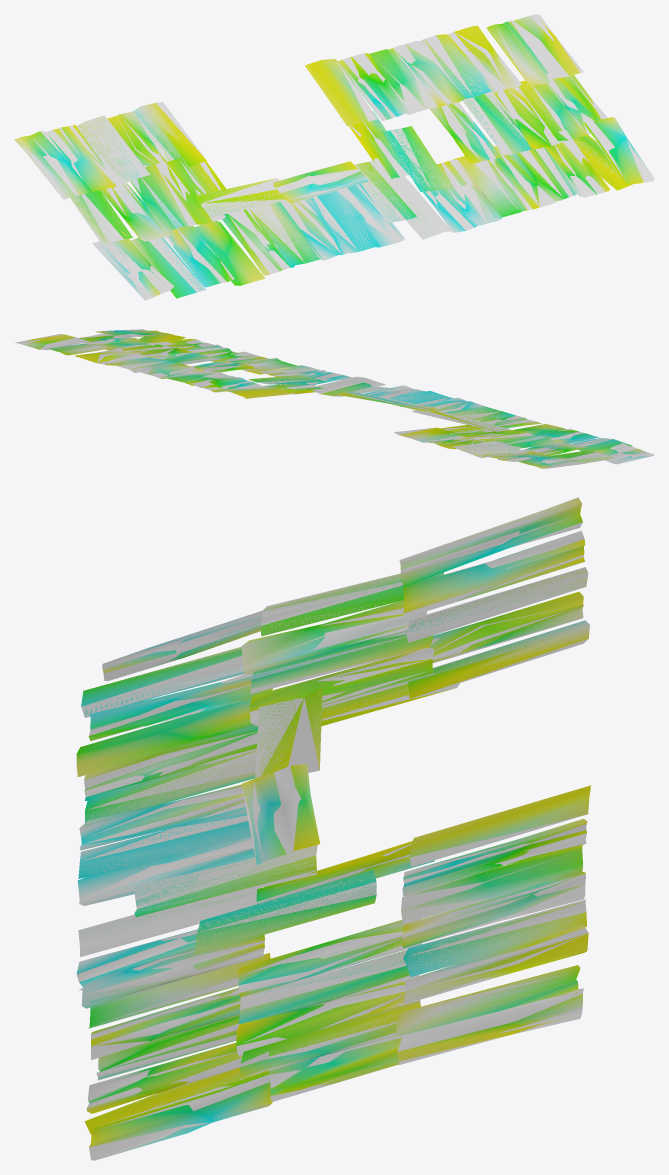
The model's file is SM_MillRoof_NN_04a.FBX.
3 renders of one model, top to bottom at view 1: azimuth 30°, elevation 25°; view 2: azimuth 150°, elevation 25°; view 3: azimuth 270°, elevation 25°, orthographic. The views are drawn at different scales.
Parts seen in each view (by area): view 1: SM_MillRoof_NN_04a_LOD0; view 2: SM_MillRoof_NN_04a_LOD0; view 3: SM_MillRoof_NN_04a_LOD0.
Boxes of the visible parts, left/top/right/bottom form: SM_MillRoof_NN_04a_LOD0: left=14, top=14, right=654, bottom=300; SM_MillRoof_NN_04a_LOD0: left=14, top=329, right=654, bottom=468; SM_MillRoof_NN_04a_LOD0: left=76, top=497, right=591, bottom=1160.
Size of what is drawn, in the model's own units: 1984 by 842 by 292.
